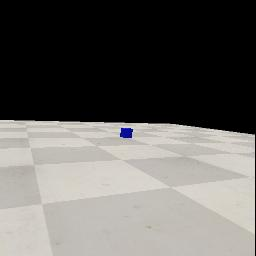box: (120, 128, 133, 138)
